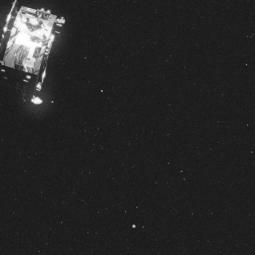lisa_pathfinder: (0, 0, 82, 118)
